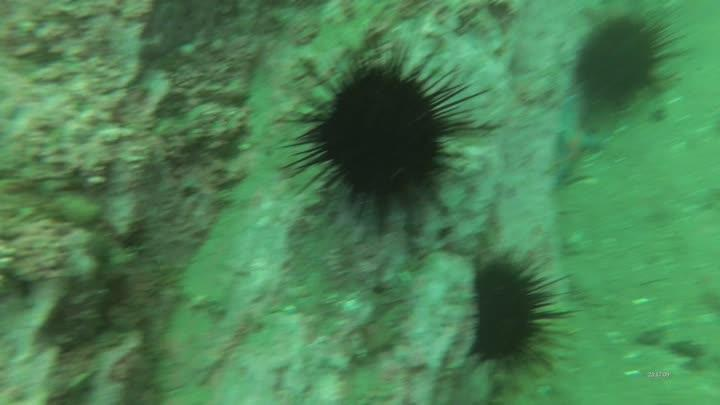urchin: (305, 67, 472, 225), (470, 247, 575, 387), (573, 15, 673, 124)
